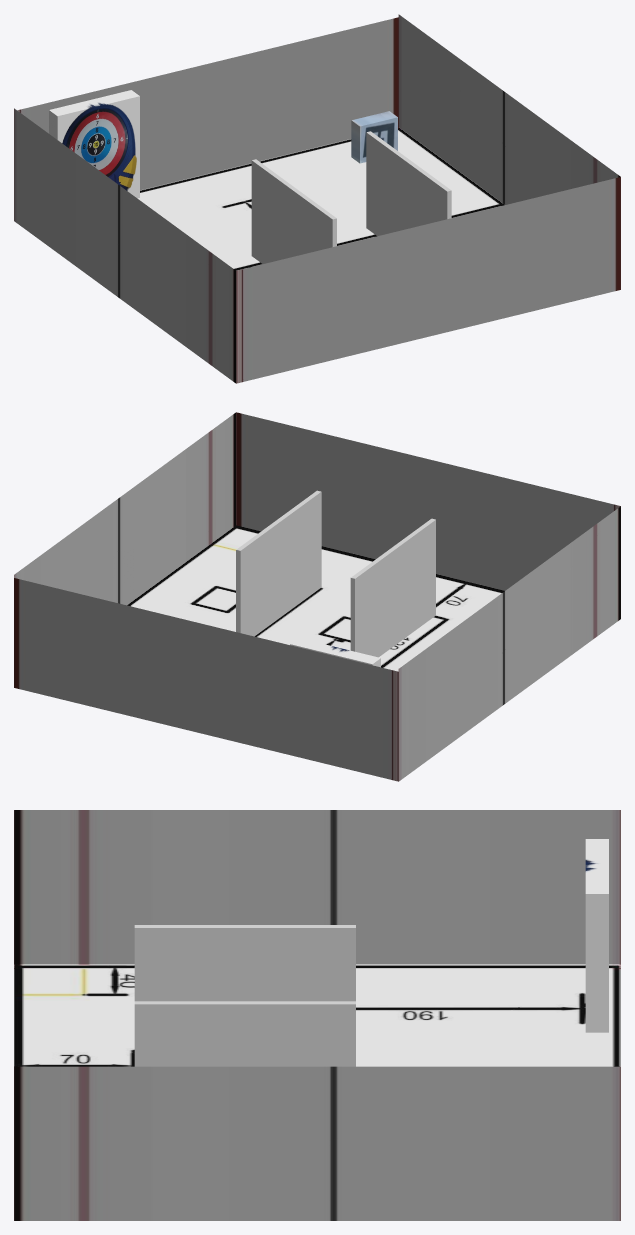
Rendered from shoot3.dae.
The picture shows the model from 3 angles, top to bottom: view 1: azimuth 30°, elevation 25°; view 2: azimuth 150°, elevation 25°; view 3: azimuth 270°, elevation 25°; orthographic projection. The views are drawn at different scales.
Parts seen in each view (by area): view 1: 平面, 立方体.002, 立方体, 立方体.001, 立方体.003; view 2: 平面, 立方体.001, 立方体, 立方体.002; view 3: 平面, 立方体, 立方体.001, 立方体.002.
Boxes of the visible parts, x1,y1,x2,y2 form: 平面: (14, 14, 620, 383); 立方体.002: (49, 90, 139, 198); 立方体: (251, 159, 336, 263); 立方体.001: (366, 131, 451, 236); 立方体.003: (351, 111, 397, 163); 平面: (14, 412, 620, 781); 立方体.001: (236, 490, 321, 636); 立方体: (350, 518, 435, 657); 立方体.002: (290, 638, 380, 667); 平面: (14, 810, 620, 1220); 立方体: (134, 925, 355, 1001); 立方体.001: (134, 1001, 355, 1066); 立方体.002: (585, 839, 608, 1032).
Bounding box in the file's own units: 3.6 × 3.6 × 1.01.
